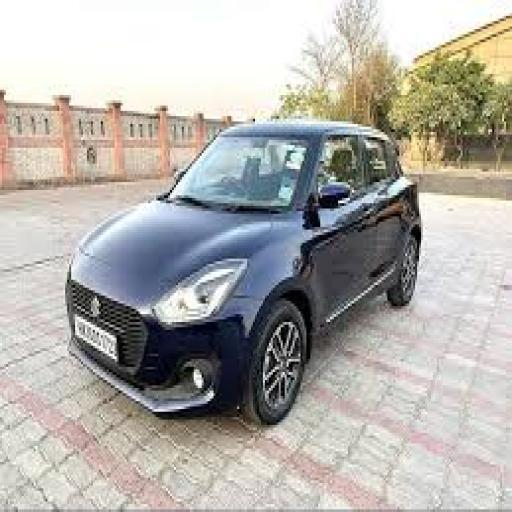car: (54, 98, 448, 425)
